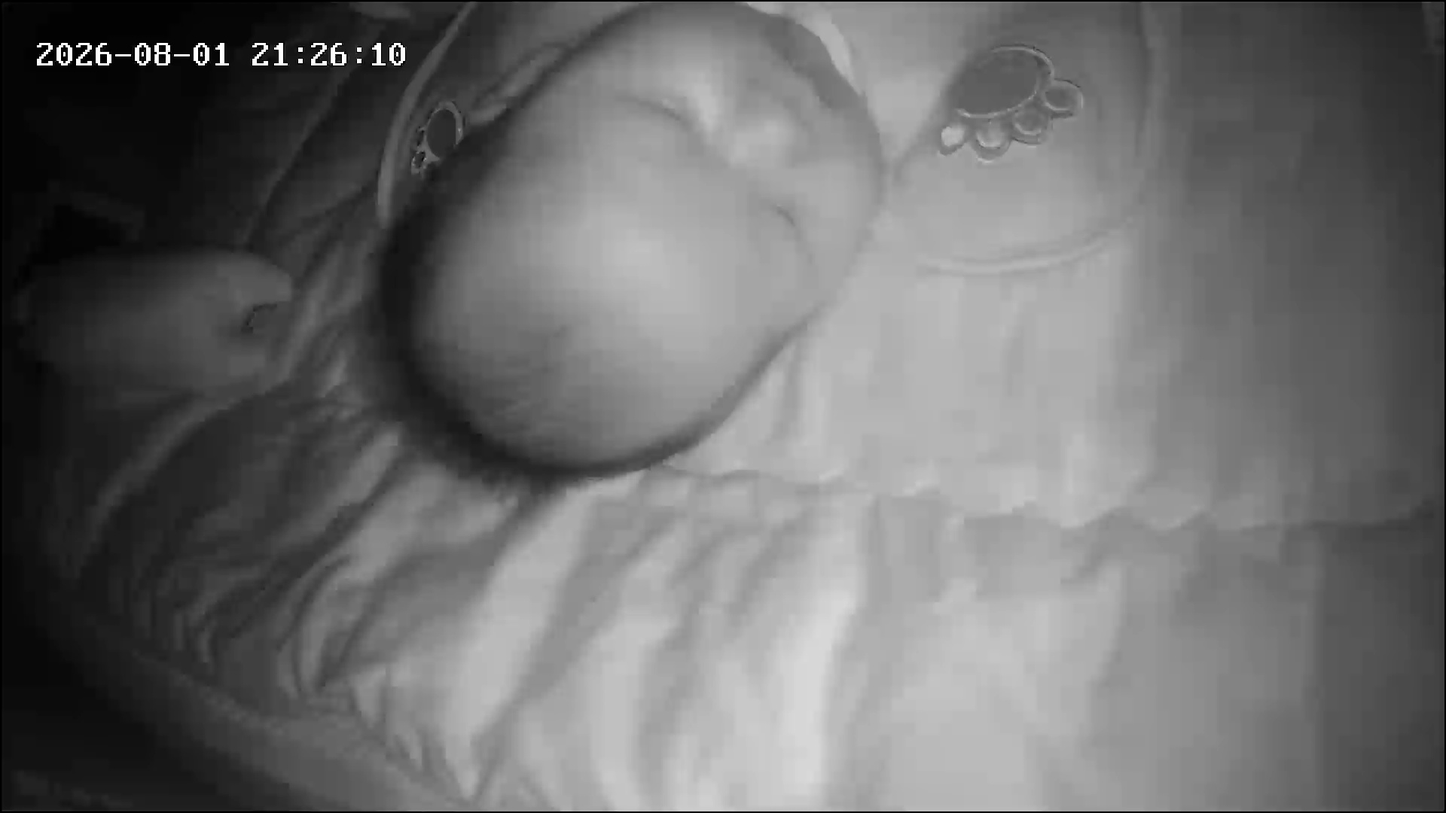baby_face: (373, 1, 906, 501)
